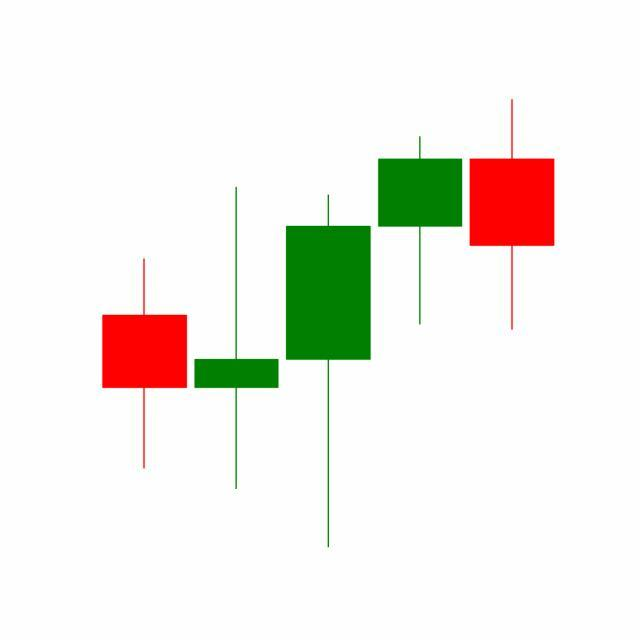Hanging Man: (374, 135, 468, 328)
